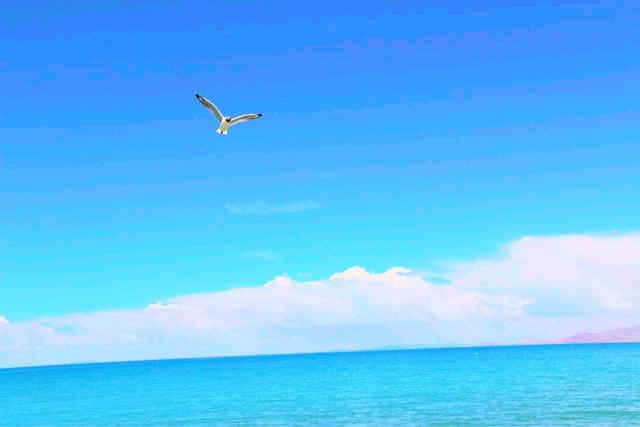bird: (193, 90, 264, 136)
